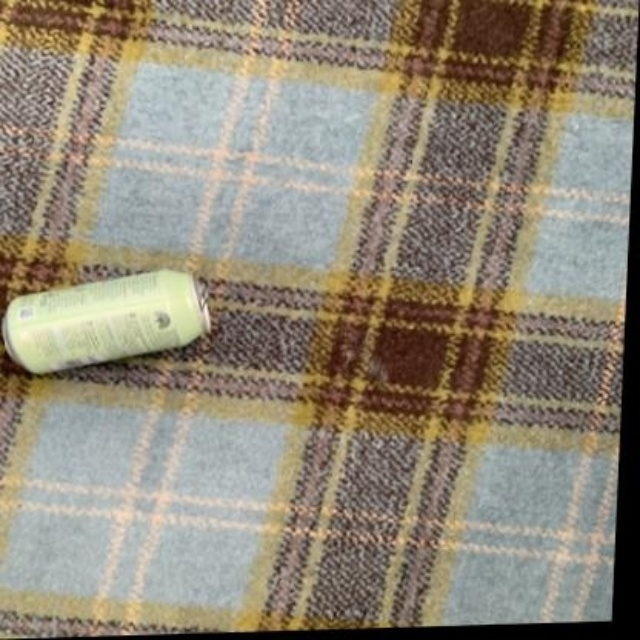trash: (2, 269, 209, 372)
